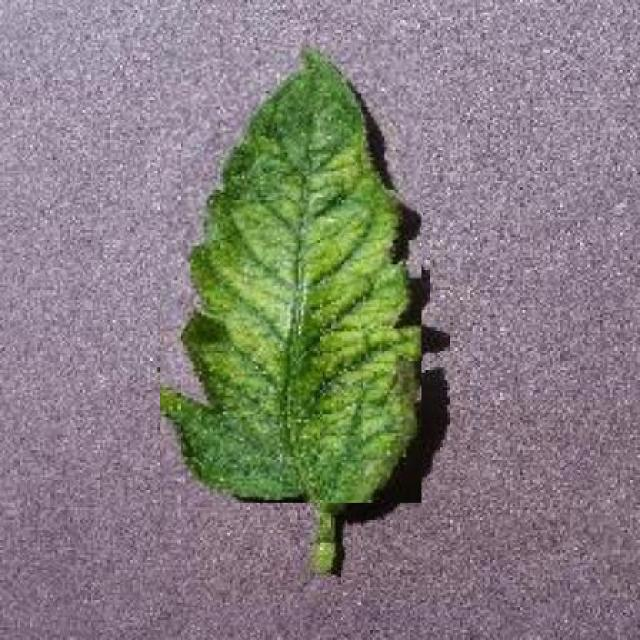Mosaic Virus: (160, 43, 421, 503)
